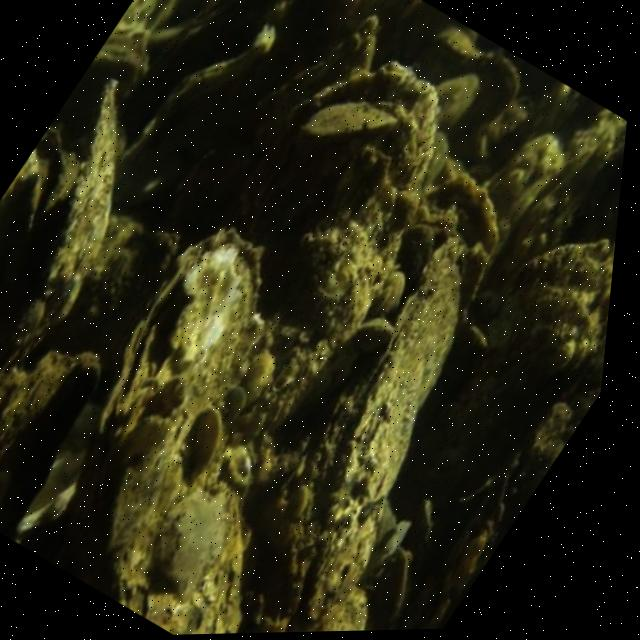Oyster-Closed: (414, 30, 519, 135)
Oyster-Indeterminate: (296, 236, 463, 632), (244, 62, 437, 346), (98, 224, 262, 474), (113, 43, 263, 204), (33, 87, 122, 304), (0, 351, 100, 541), (256, 20, 378, 164), (51, 44, 144, 143), (291, 103, 391, 162)
